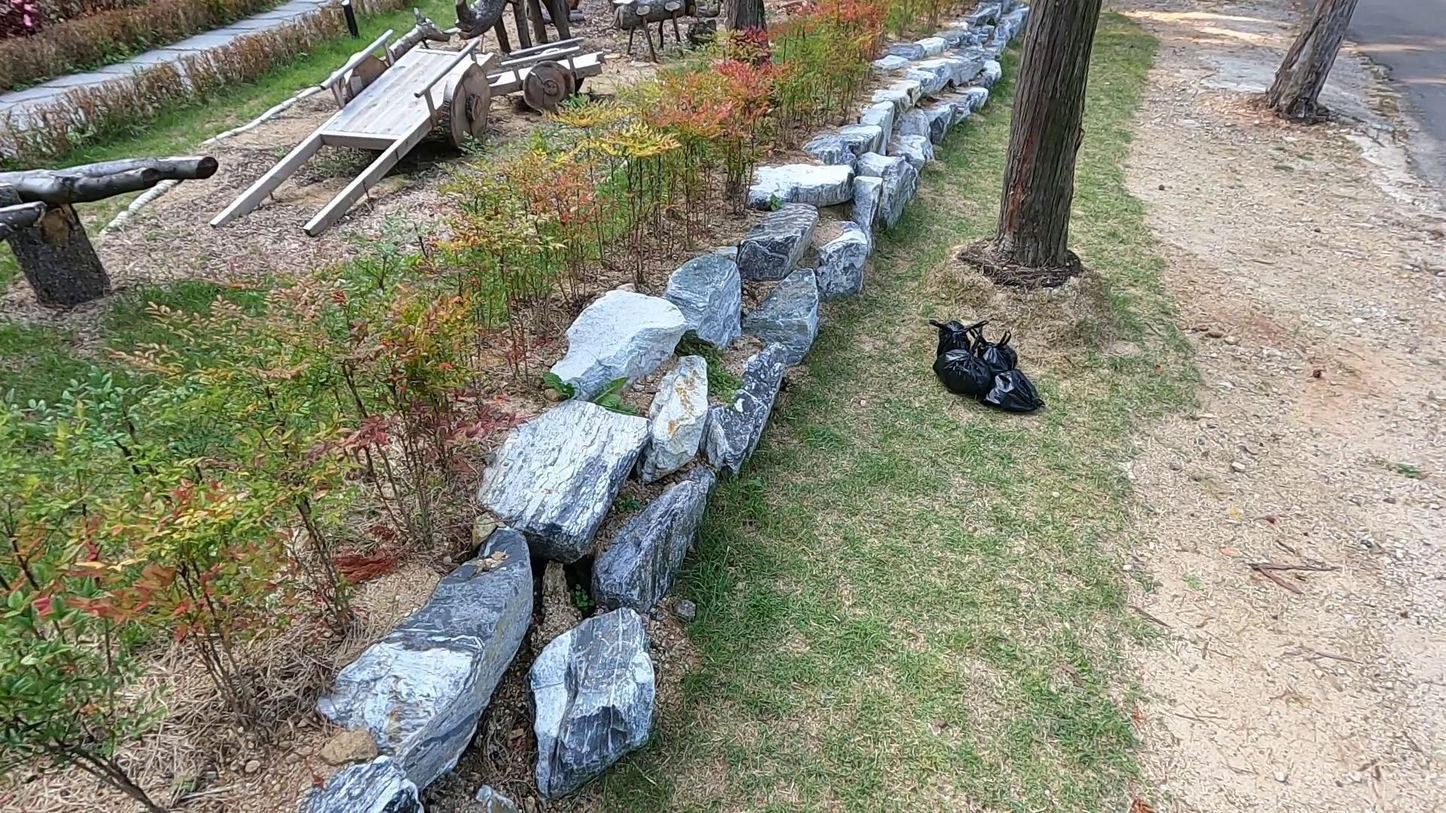trash: (923, 337, 1004, 402), (959, 323, 1023, 391), (931, 313, 997, 378), (978, 355, 1042, 417)
